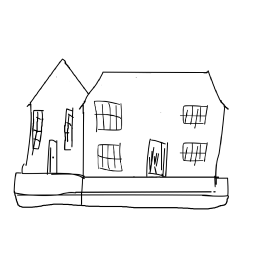closed_window: (89, 98, 129, 136), (91, 141, 126, 174), (179, 138, 211, 166), (180, 101, 211, 129), (29, 108, 46, 156), (62, 106, 75, 153)
door: (141, 132, 171, 178), (45, 135, 61, 178)
single_line_roof: (79, 63, 236, 111), (18, 57, 94, 105)
wall: (79, 97, 226, 184), (25, 105, 87, 179)
